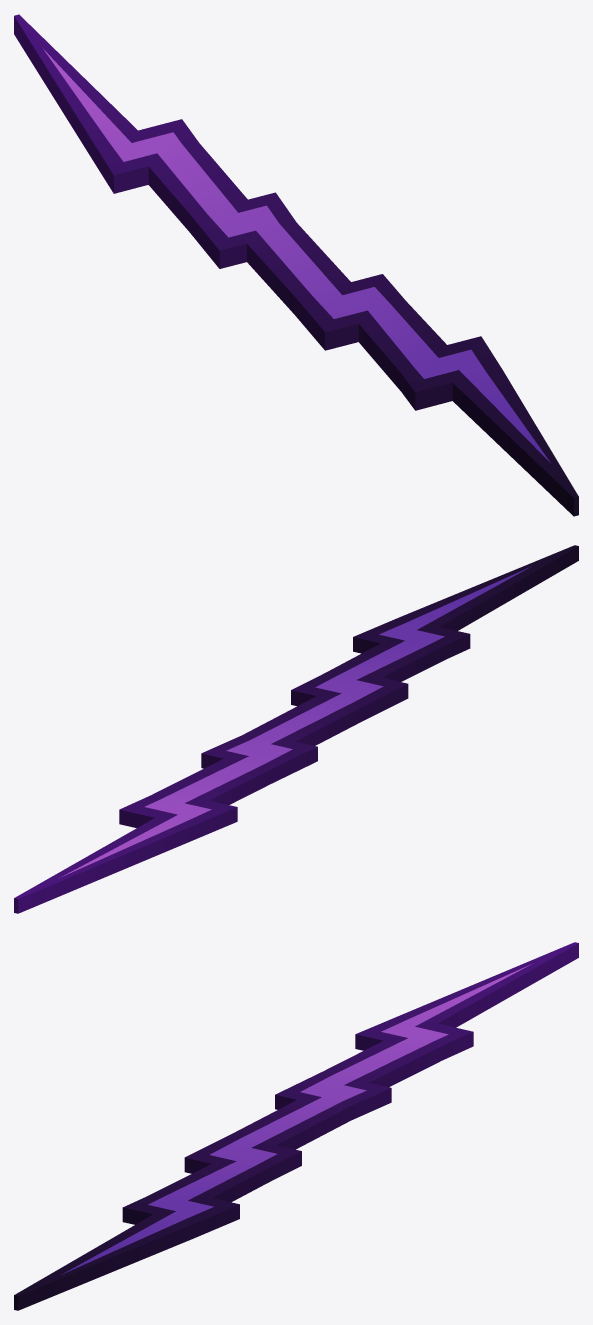
The model's file is Stick V3.fbx.
3 views of the same model, one above another, from view 1: azimuth 30°, elevation 25°; view 2: azimuth 150°, elevation 25°; view 3: azimuth 330°, elevation 25° (orthographic). The views are drawn at different scales.
Parts seen in each view (by area): view 1: Plane.002; view 2: Plane.002; view 3: Plane.002.
Part boxes in pixels (x1,y1,x2,y2): Plane.002: [14, 14, 578, 516]; Plane.002: [14, 545, 578, 913]; Plane.002: [14, 942, 578, 1310].
Size of the model in its own units: 28.46 by 4.44 by 276.
